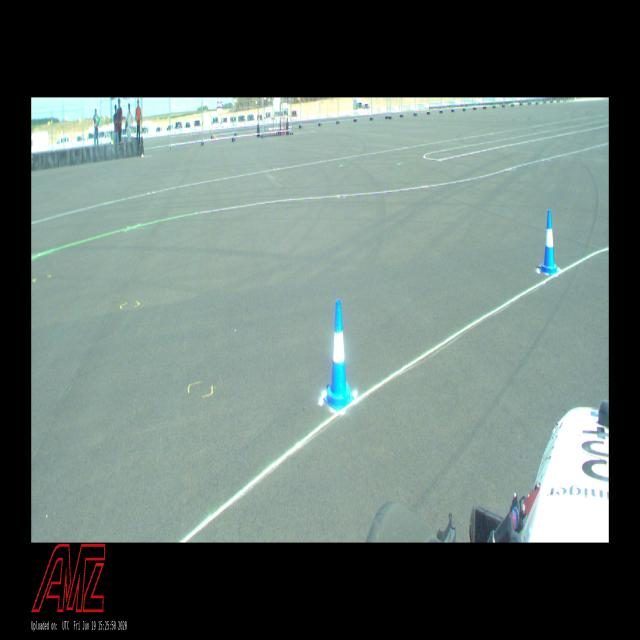blue_cone: (324, 300, 354, 412), (540, 210, 559, 276)
